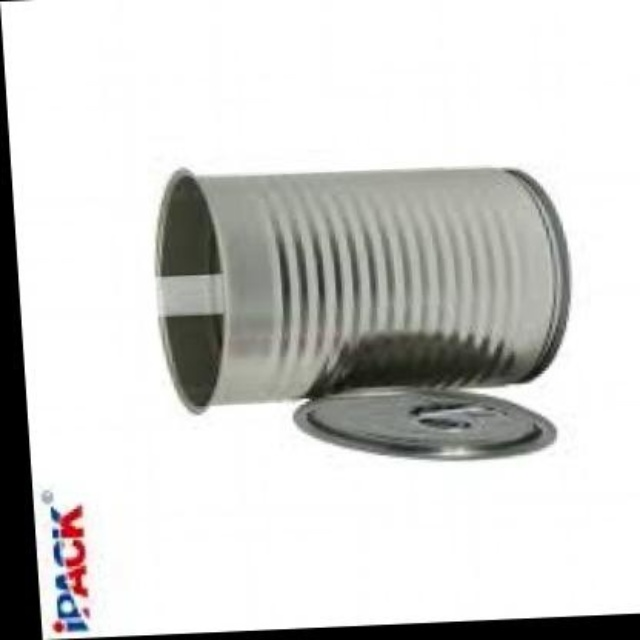trash: (155, 168, 568, 455), (155, 168, 568, 409)
